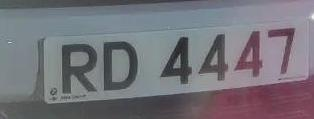4: (155, 29, 198, 93), (230, 25, 270, 86), (195, 27, 233, 89)
7: (267, 22, 306, 84)
D: (98, 35, 143, 98)
R: (54, 38, 105, 98)
